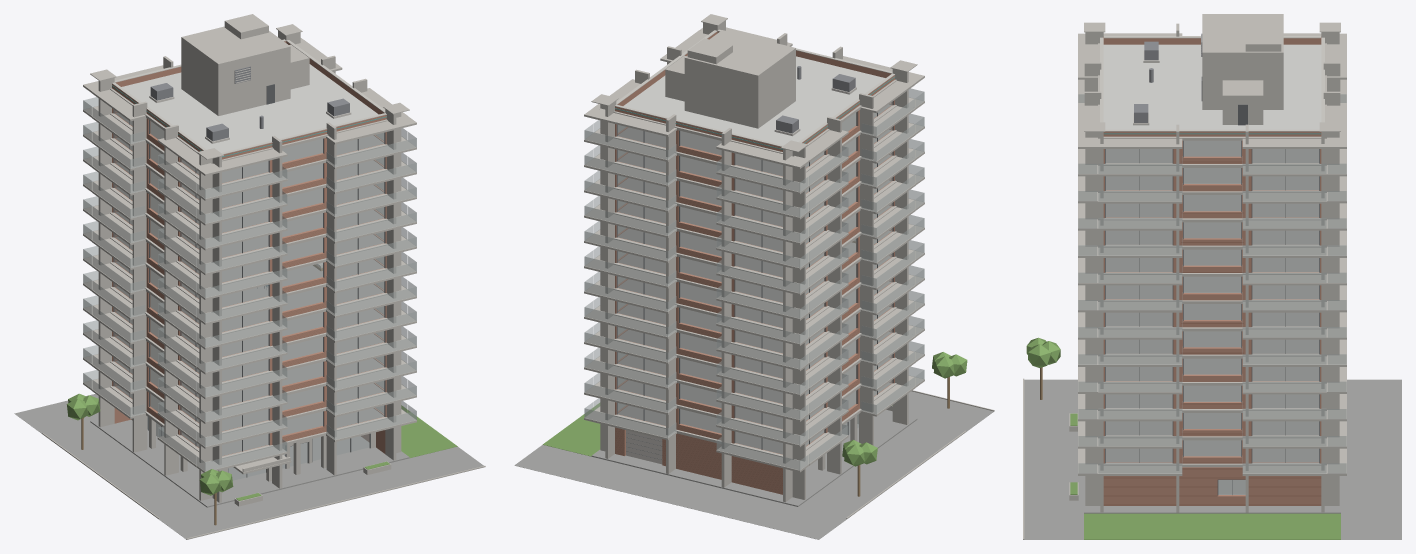
The model's file is clay-slab-balcony-tower-clay-v007.glb.
The picture shows the model from 3 angles, left to right: view 1: azimuth 30°, elevation 25°; view 2: azimuth 150°, elevation 25°; view 3: azimuth 270°, elevation 25°; orthographic projection. The views are drawn at different scales.
Parts seen in each view (by area): view 1: CLAY_CONCRETE, CLAY_GLASS, CLAY_FLOOR, CLAY_FOUNDATION, CLAY_WALL, CLAY_MEMBRANE, CLAY_PLANTING, CLAY_TRIM, CLAY_PALE, CLAY_HARDWARE, CLAY_STONE; view 2: CLAY_CONCRETE, CLAY_GLASS, CLAY_FLOOR, CLAY_FOUNDATION, CLAY_WALL, CLAY_MEMBRANE, CLAY_PLANTING, CLAY_PALE, CLAY_TRIM, CLAY_HARDWARE, CLAY_JOINT; view 3: CLAY_CONCRETE, CLAY_GLASS, CLAY_FLOOR, CLAY_FOUNDATION, CLAY_WALL, CLAY_MEMBRANE, CLAY_PLANTING, CLAY_JOINT, CLAY_TRIM, CLAY_PALE, CLAY_HARDWARE.
Boxes of the visible parts, x1,y1,x2,y2 form: CLAY_CONCRETE: (83, 14, 416, 506); CLAY_GLASS: (83, 97, 416, 480); CLAY_FLOOR: (115, 113, 384, 456); CLAY_FOUNDATION: (14, 394, 483, 539); CLAY_WALL: (112, 41, 386, 456); CLAY_MEMBRANE: (121, 64, 378, 152); CLAY_PLANTING: (66, 393, 457, 500); CLAY_TRIM: (113, 84, 385, 477); CLAY_PALE: (112, 39, 386, 265); CLAY_HARDWARE: (150, 66, 349, 141); CLAY_STONE: (42, 433, 485, 539); CLAY_CONCRETE: (584, 14, 924, 502); CLAY_GLASS: (584, 88, 924, 470); CLAY_FLOOR: (617, 104, 891, 454); CLAY_FOUNDATION: (514, 391, 993, 539); CLAY_WALL: (615, 31, 894, 494); CLAY_MEMBRANE: (623, 56, 885, 145); CLAY_PLANTING: (543, 352, 967, 466); CLAY_PALE: (615, 29, 894, 464); CLAY_TRIM: (616, 101, 893, 449); CLAY_HARDWARE: (626, 66, 855, 459); CLAY_JOINT: (616, 128, 858, 494); CLAY_CONCRETE: (1069, 14, 1346, 512); CLAY_GLASS: (1078, 94, 1346, 494); CLAY_FLOOR: (1105, 140, 1319, 462); CLAY_FOUNDATION: (1024, 379, 1401, 539); CLAY_WALL: (1103, 37, 1321, 505); CLAY_MEMBRANE: (1103, 44, 1321, 129); CLAY_PLANTING: (1026, 337, 1340, 539); CLAY_JOINT: (1104, 161, 1320, 505); CLAY_TRIM: (1105, 77, 1319, 495); CLAY_PALE: (1100, 35, 1324, 131); CLAY_HARDWARE: (1134, 33, 1202, 122).
Bounding box in the file's own units: 37.36 × 47 × 37.2.
